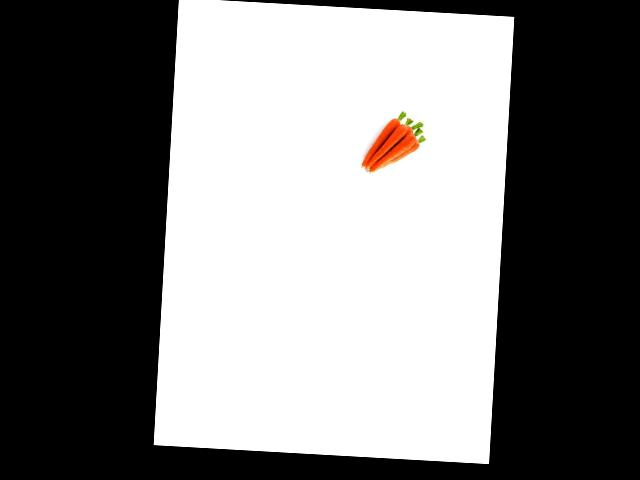carrot: (357, 112, 399, 167)
